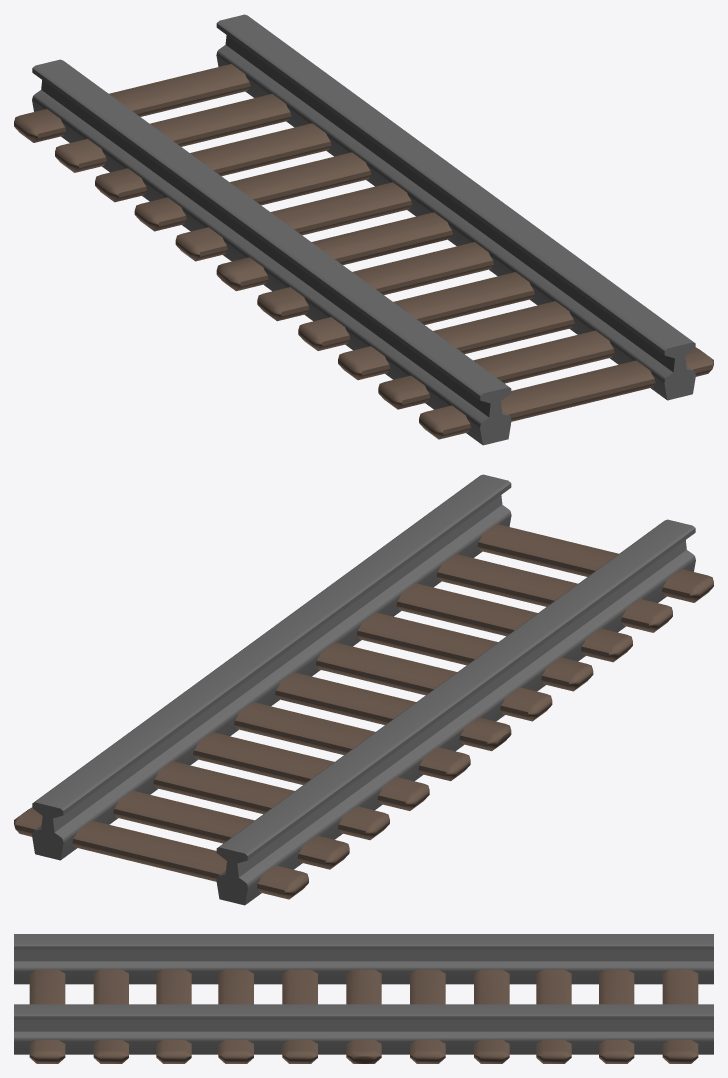
File: rail_extend.glb
3 views of the same model, one above another, from view 1: azimuth 30°, elevation 25°; view 2: azimuth 150°, elevation 25°; view 3: azimuth 270°, elevation 25° (orthographic). The views are drawn at different scales.
Visible parts, largest first — view 1: Object_3; view 2: Object_3; view 3: Object_3.
Boxes of the visible parts, x1,y1,x2,y2 form: Object_3: (14,14,713,445); Object_3: (14,474,713,905); Object_3: (14,934,713,1063).
Size of the model in its own units: 1.64 by 0.2894 by 4.53.
